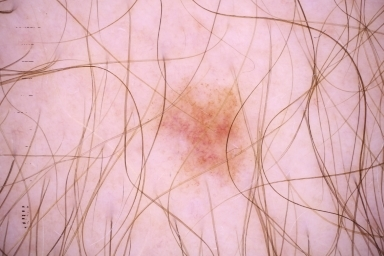nevus: (156, 79, 247, 190)
